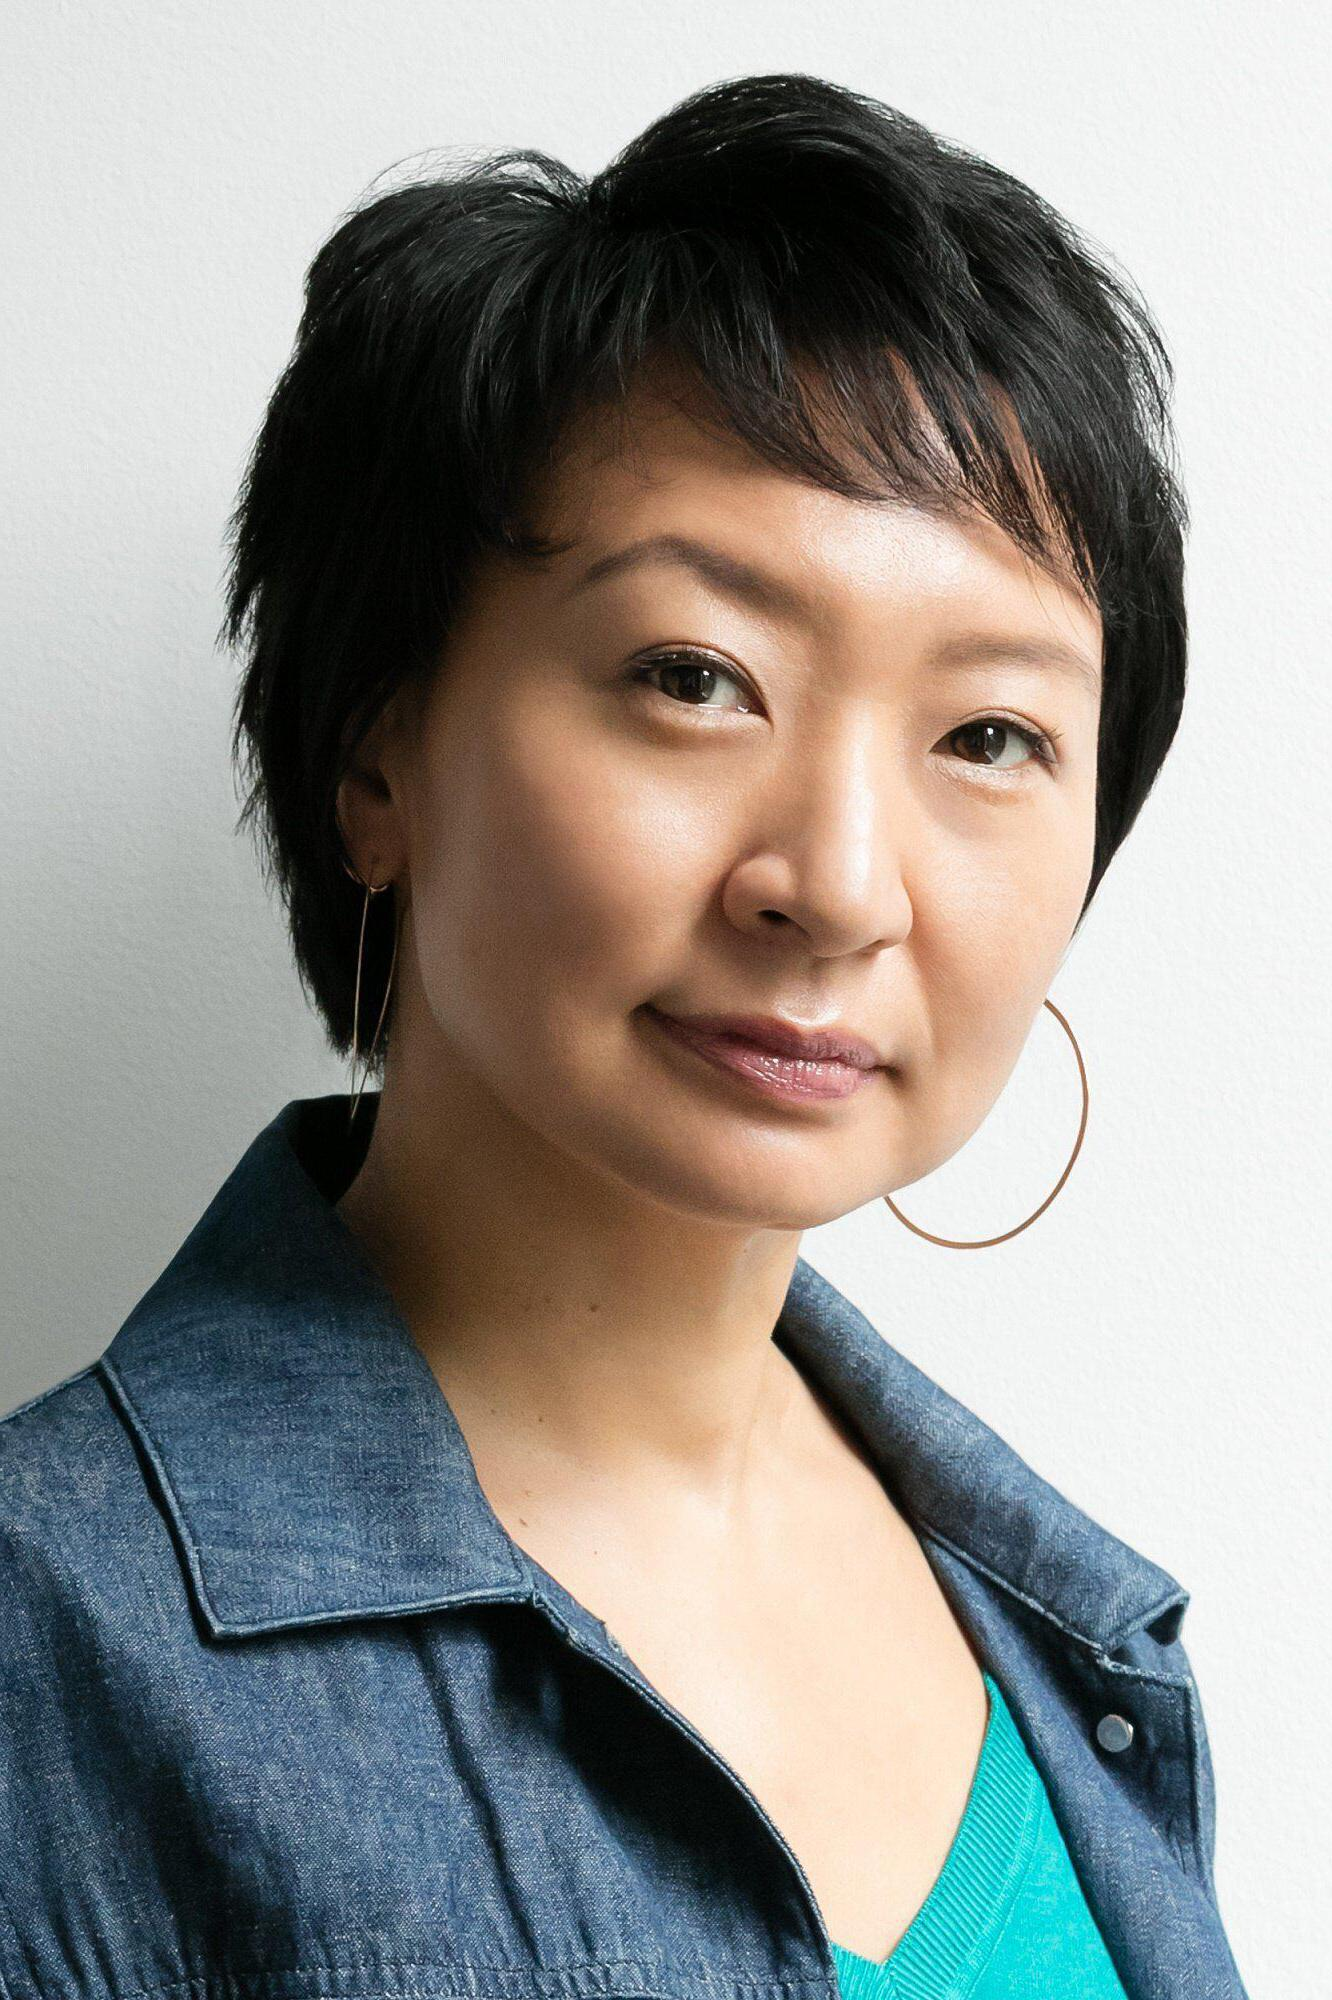Sober: (437, 397, 1084, 1186)
